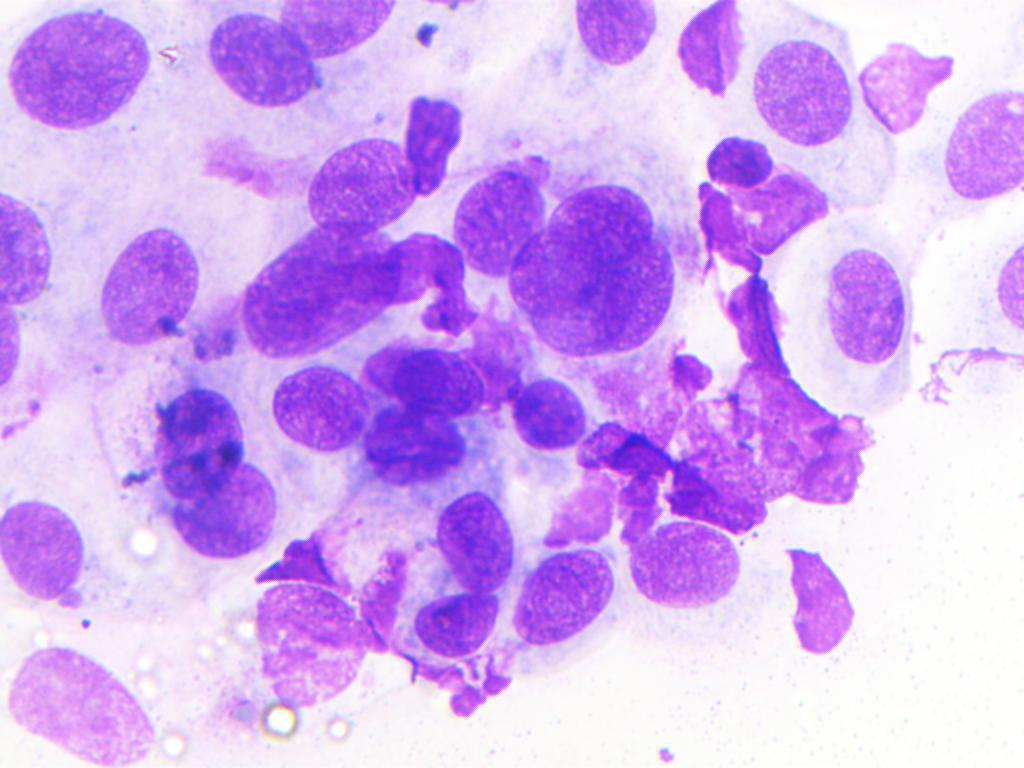artifact: (708, 259, 874, 506), (683, 167, 837, 268), (784, 547, 874, 676), (386, 214, 480, 334), (400, 87, 478, 198), (676, 0, 747, 101), (568, 423, 682, 484), (546, 469, 613, 554), (250, 691, 312, 734), (122, 520, 177, 559)
epithelial: (234, 220, 406, 356), (8, 1, 166, 138), (1, 641, 169, 768), (804, 224, 918, 393), (237, 586, 373, 709), (86, 220, 208, 344), (458, 152, 574, 282), (535, 169, 660, 278), (583, 235, 693, 355), (0, 481, 99, 613), (740, 31, 851, 144), (299, 129, 413, 238), (204, 10, 319, 117), (944, 72, 1024, 218), (174, 461, 277, 572), (347, 398, 476, 481), (511, 540, 619, 637), (626, 519, 740, 605), (560, 0, 670, 87), (0, 180, 69, 311), (421, 491, 513, 589), (272, 361, 369, 452), (507, 210, 595, 309), (540, 271, 627, 368), (378, 350, 492, 420), (272, 0, 408, 56), (511, 374, 589, 461), (407, 588, 504, 655), (982, 229, 1024, 363), (695, 128, 781, 192), (0, 299, 42, 398)
goblet_cell: (830, 22, 952, 187)
